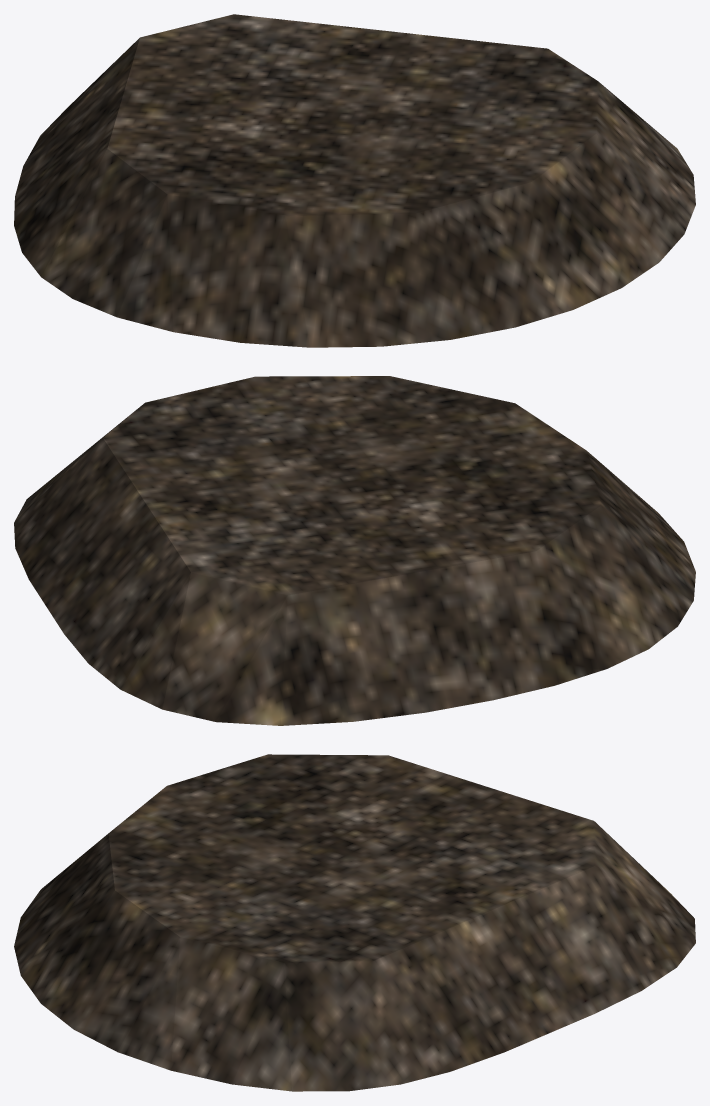
The model's file is SM_TI_Slab_2.fbx.
3 renders of one model, top to bottom at view 1: azimuth 30°, elevation 25°; view 2: azimuth 150°, elevation 25°; view 3: azimuth 270°, elevation 25°, orthographic. The views are drawn at different scales.
Visible parts, largest first — view 1: SM_TI_Slab_2; view 2: SM_TI_Slab_2; view 3: SM_TI_Slab_2.
Boxes of the visible parts, x1,y1,x2,y2 form: SM_TI_Slab_2: (14, 14, 695, 347); SM_TI_Slab_2: (14, 376, 695, 725); SM_TI_Slab_2: (14, 754, 695, 1091).
Size of the model in its own units: 2.41 by 2.4 by 0.3444.
